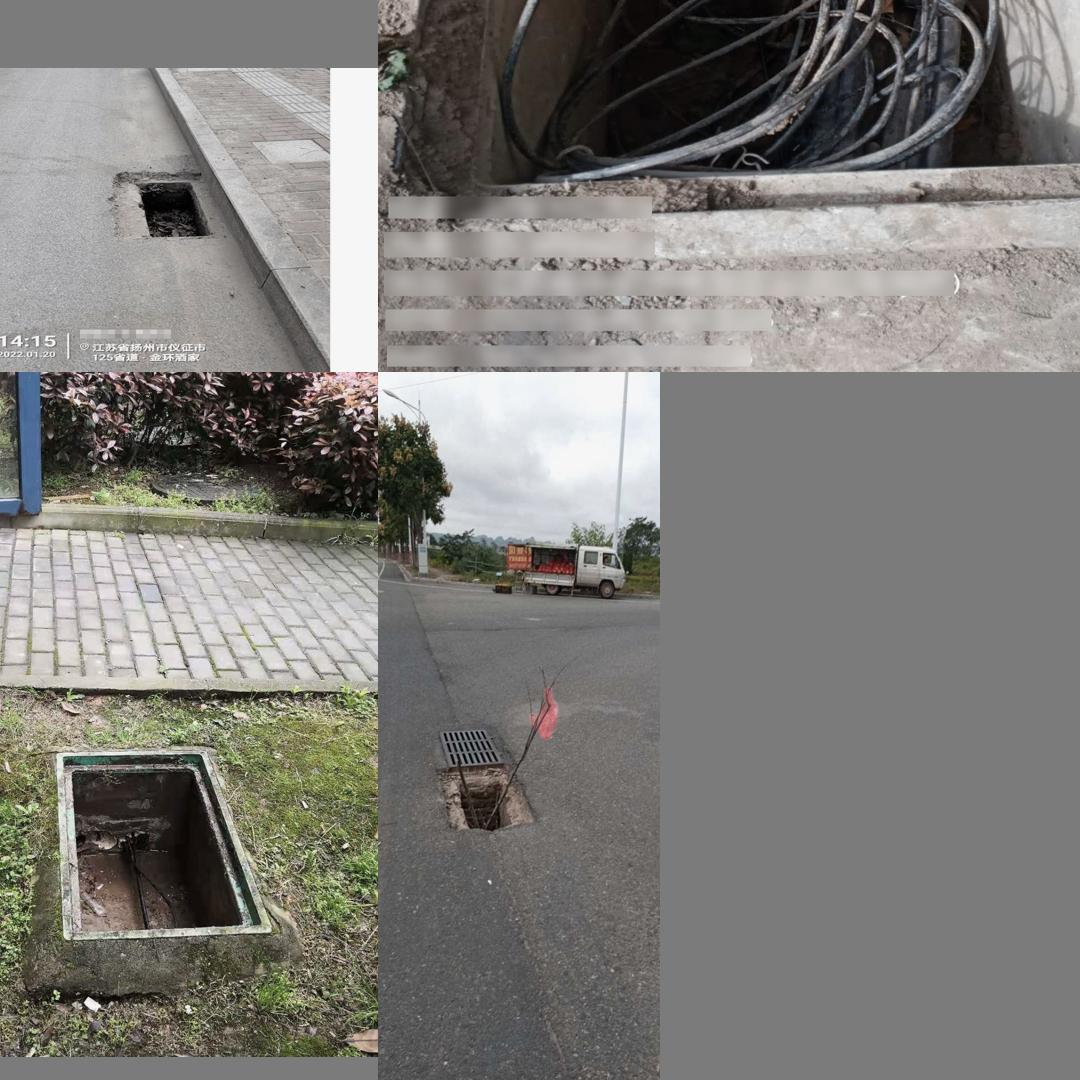lose: (403, 0, 1080, 237), (52, 746, 267, 943), (414, 696, 557, 855), (89, 161, 249, 253)
